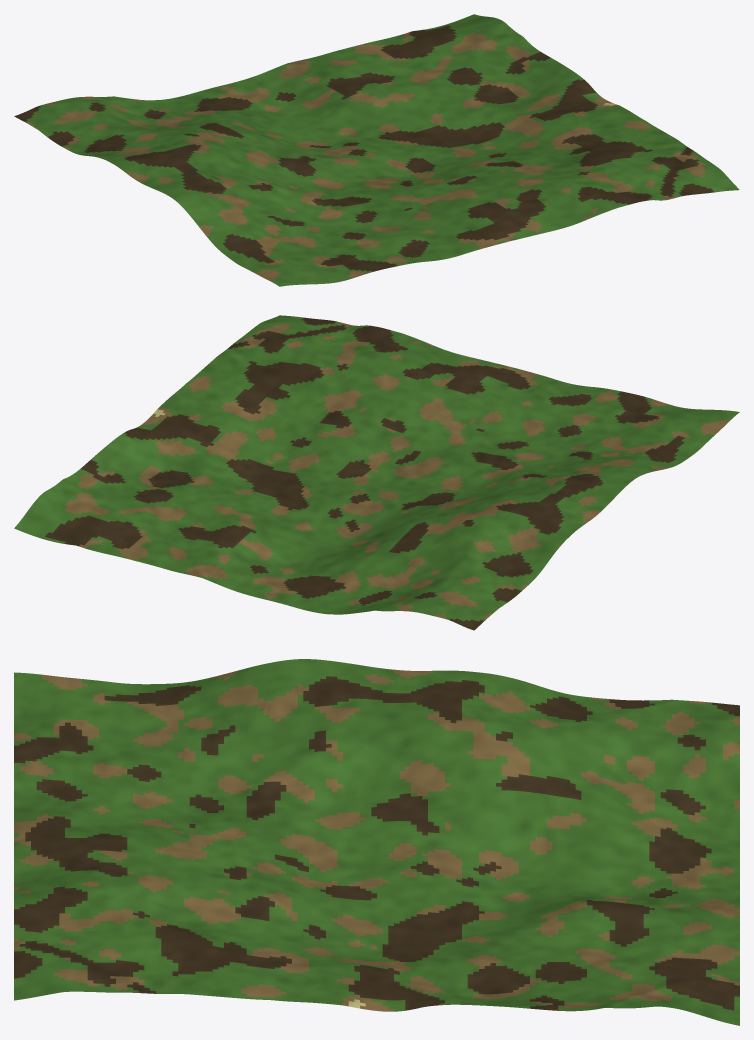
File: chunk_0_2.glb
The picture shows the model from 3 angles, top to bottom: view 1: azimuth 30°, elevation 25°; view 2: azimuth 150°, elevation 25°; view 3: azimuth 270°, elevation 25°; orthographic projection. The views are drawn at different scales.
Parts seen in each view (by area): view 1: Surface_Grass, Surface_Mud, Surface_Dirt; view 2: Surface_Grass, Surface_Mud, Surface_Dirt; view 3: Surface_Grass, Surface_Mud, Surface_Dirt.
Boxes of the visible parts, x1=… form: Surface_Grass: x1=25, y1=14, x2=739, y2=286; Surface_Mud: x1=14, y1=25, x2=714, y2=271; Surface_Dirt: x1=27, y1=32, x2=706, y2=280; Surface_Grass: x1=14, y1=315, x2=739, y2=621; Surface_Mud: x1=45, y1=317, x2=684, y2=630; Surface_Dirt: x1=64, y1=322, x2=728, y2=618; Surface_Grass: x1=14, y1=659, x2=739, y2=1025; Surface_Mud: x1=14, y1=676, x2=739, y2=1010; Surface_Dirt: x1=14, y1=669, x2=739, y2=1011.
Bounding box in the file's own units: 256 × 29.43 × 256.
